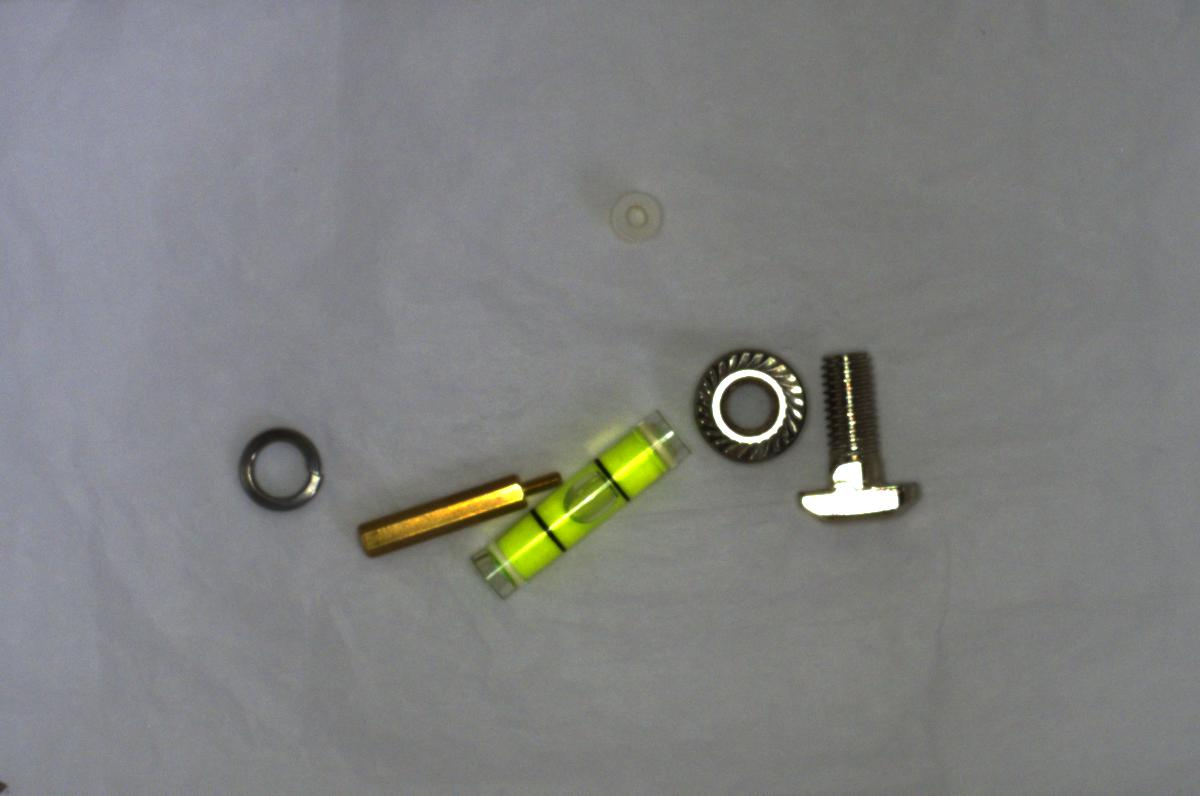Flange nut: (679, 336, 818, 473)
Hexagon pillar: (351, 456, 561, 559)
Horizontal bubble: (472, 410, 686, 598)
Plastic cushion pillar: (605, 174, 672, 252)
Spring washer: (231, 423, 332, 518)
T-shaped screw: (793, 349, 932, 529)
